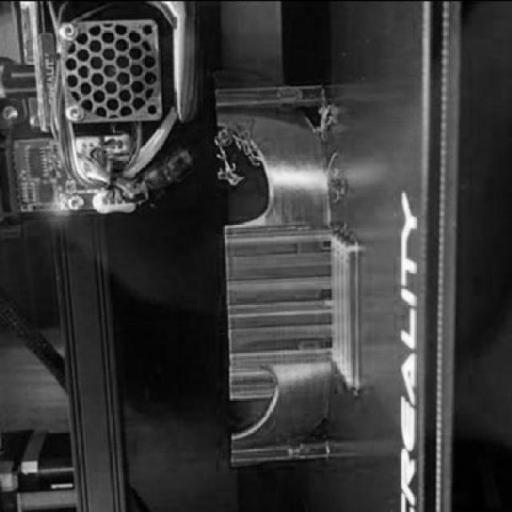spaghetti_and_stringing: (213, 123, 267, 185), (322, 150, 348, 202), (313, 93, 332, 143)
